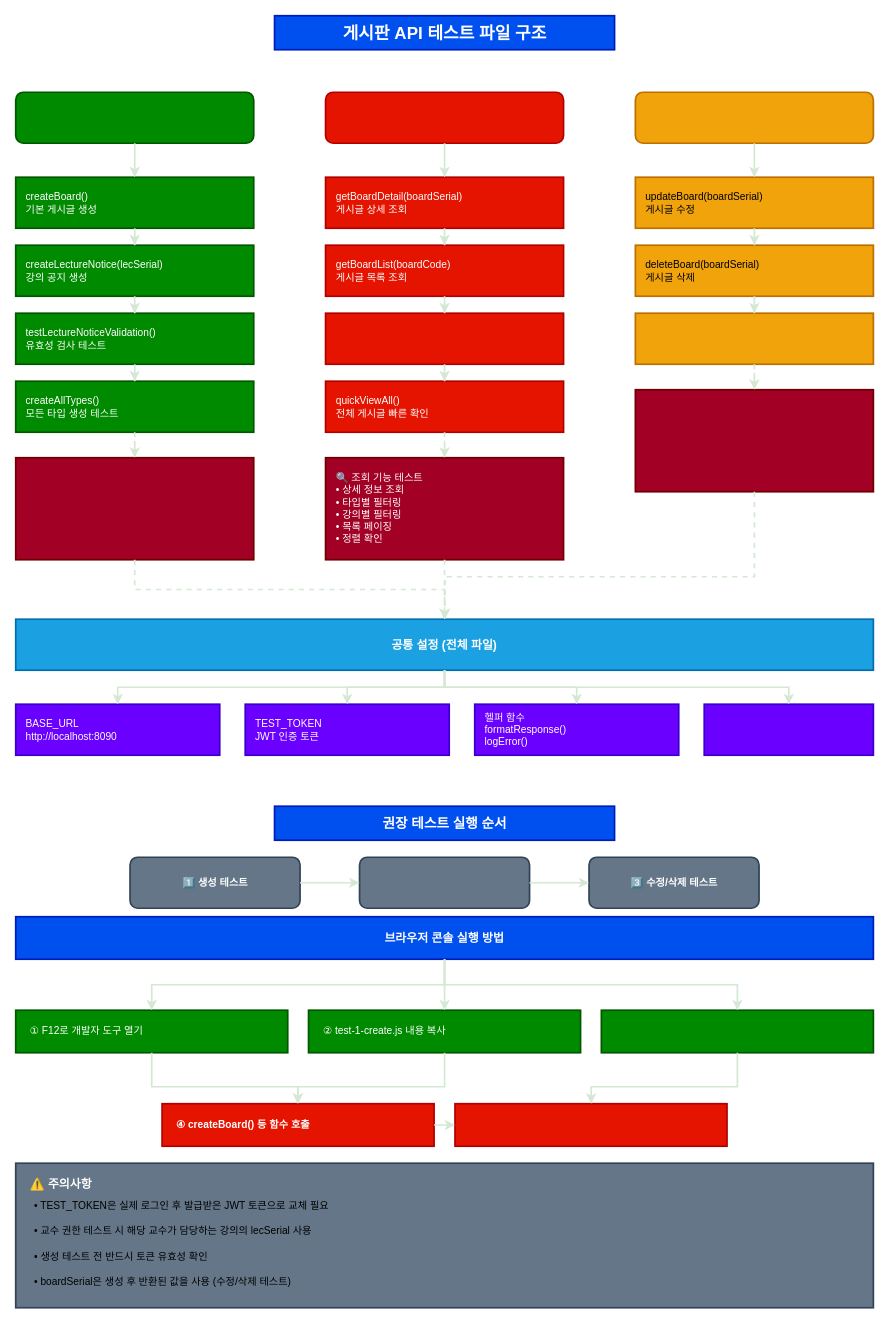
The diagram is 888 pixels wide and 1323 high, and some of its shapes have lost their labels. The centre of each missing label's shape, as x and y in pixels:
"2️⃣ 조회 테스트" belongs at (x=444, y=882).
"fetch 설정 headers, method" belongs at (x=788, y=729).
"getLectureNotices(lecSerial) 강의별 공지 조회" belongs at (x=444, y=338).
"test-1-create.js" belongs at (x=134, y=117).
"test-2-read.js" belongs at (x=444, y=117).
"test-3-update-delete.js" belongs at (x=754, y=117).
"updateLecSerial(boardSerial) 강의 코드 수정" belongs at (x=754, y=338).
"③ 콘솔에 붙여넣고 Enter" belongs at (x=737, y=1031).
"⑤ 결과 확인 및 다음 테스트 진행" belongs at (x=590, y=1124).
"✏️ 수정/삭제 기능 테스트 • 제목/내용 수정 • lecSerial 변경 • 권한 확인 • 게시글 삭제 • 에러 케이스" belongs at (x=754, y=440).
"📝 생성 기능 테스트 • BOARD_CODE 0-3 생성 • lecSerial 필수 검증 • 권한별 제한 확인 • 에러 케이스 테스트" belongs at (x=134, y=508).
